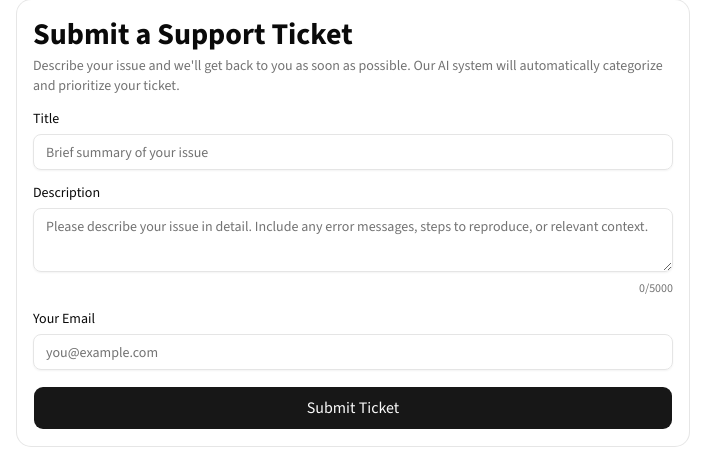
Test: TicketSubmitForm › shows character count for description
Replace the text in the text box labelled "Description" with "Hello world" at (353, 240), box [33, 208, 673, 272]
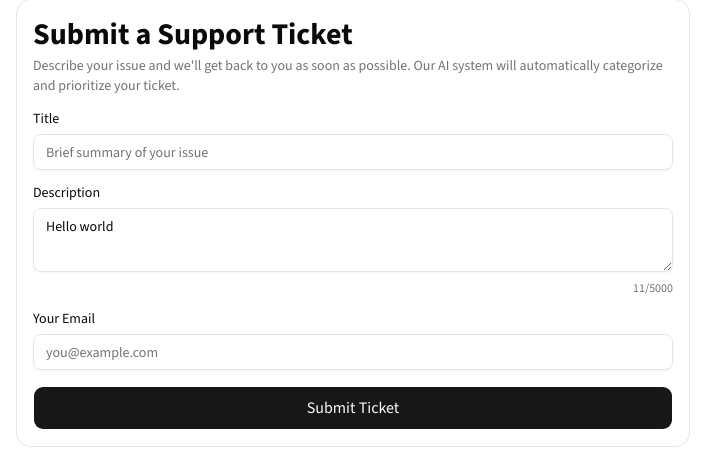
Now the text "11/5000" is shown, box [633, 280, 673, 296]
